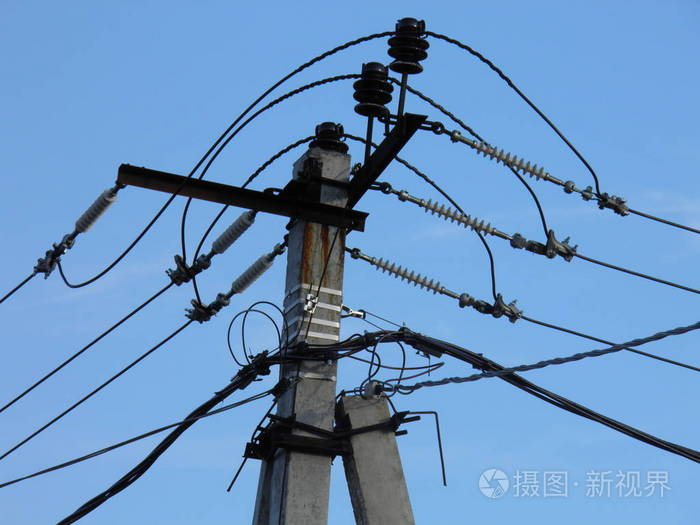insulator: (479, 141, 544, 181), (425, 199, 492, 234), (375, 259, 439, 295), (387, 34, 431, 75), (210, 213, 253, 253), (350, 80, 393, 120), (74, 190, 113, 233), (231, 258, 271, 293)
